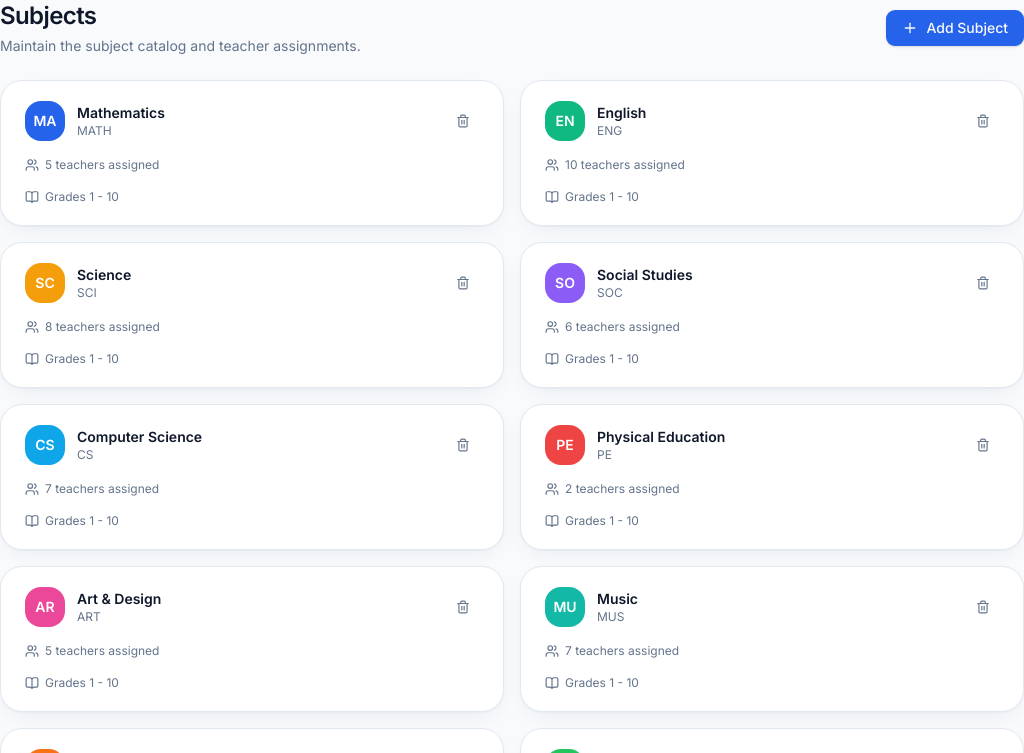
Scenario: SubjectsPage — delete flow › removes a subject card after confirming delete
Click the button without text in the row of "Mathematics" at (463, 121), box [447, 105, 479, 137]
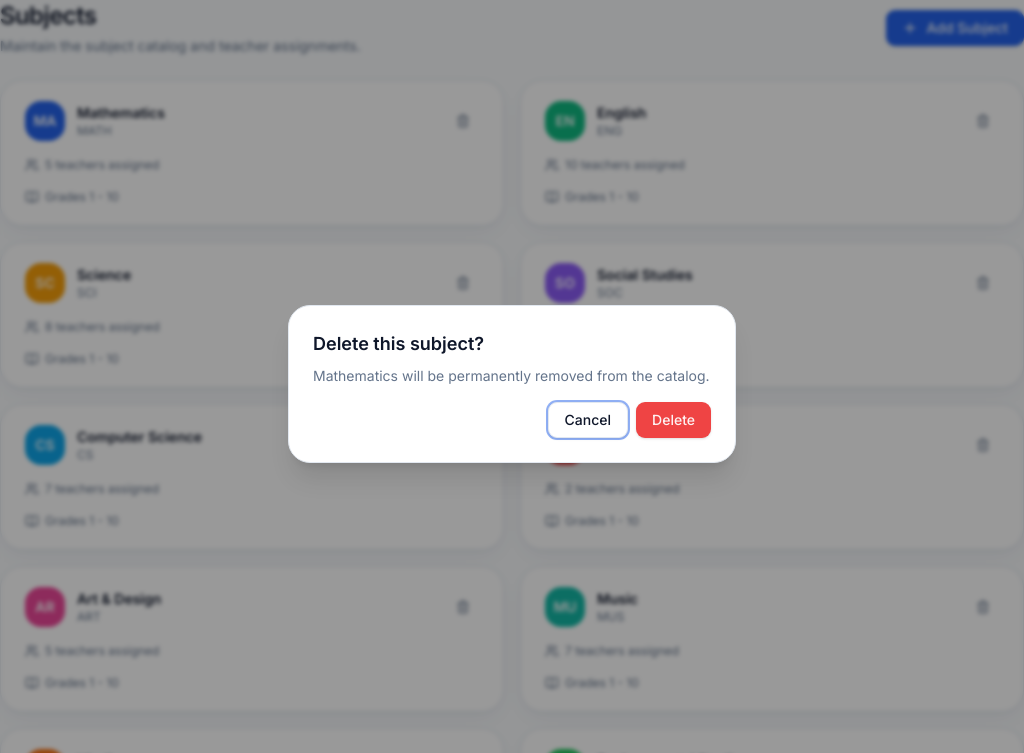
Expected: the heading "Delete this subject?" is shown, [313, 333, 484, 354]
Click the button "Delete" at (674, 420), box [636, 402, 711, 438]
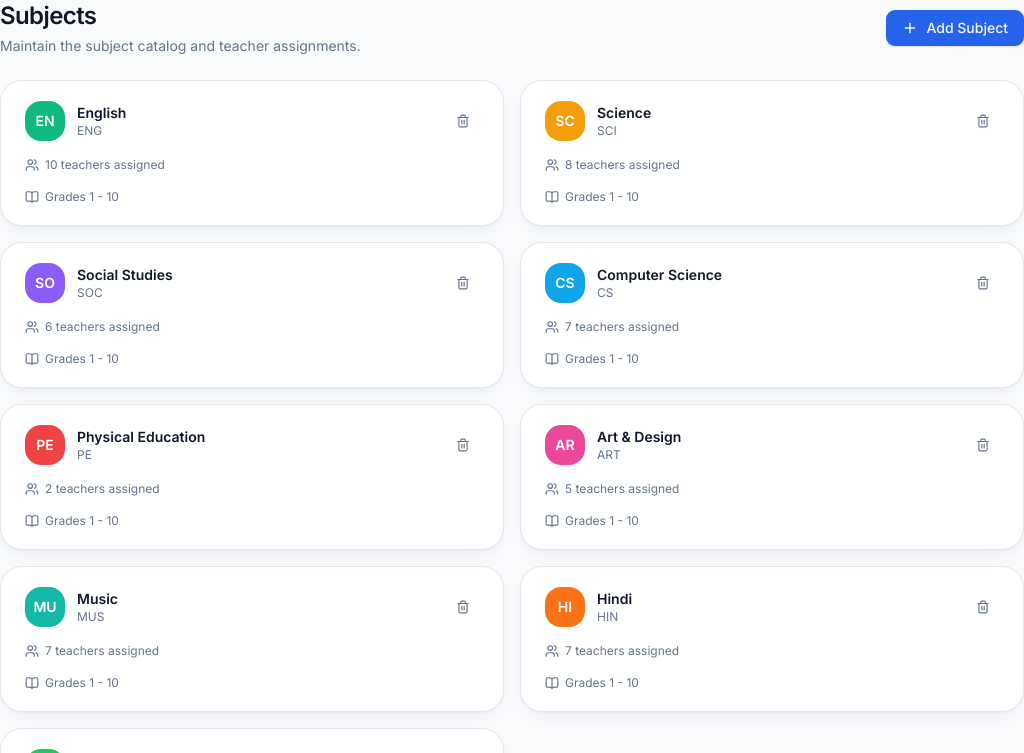
Expected: the text "Mathematics" is gone
